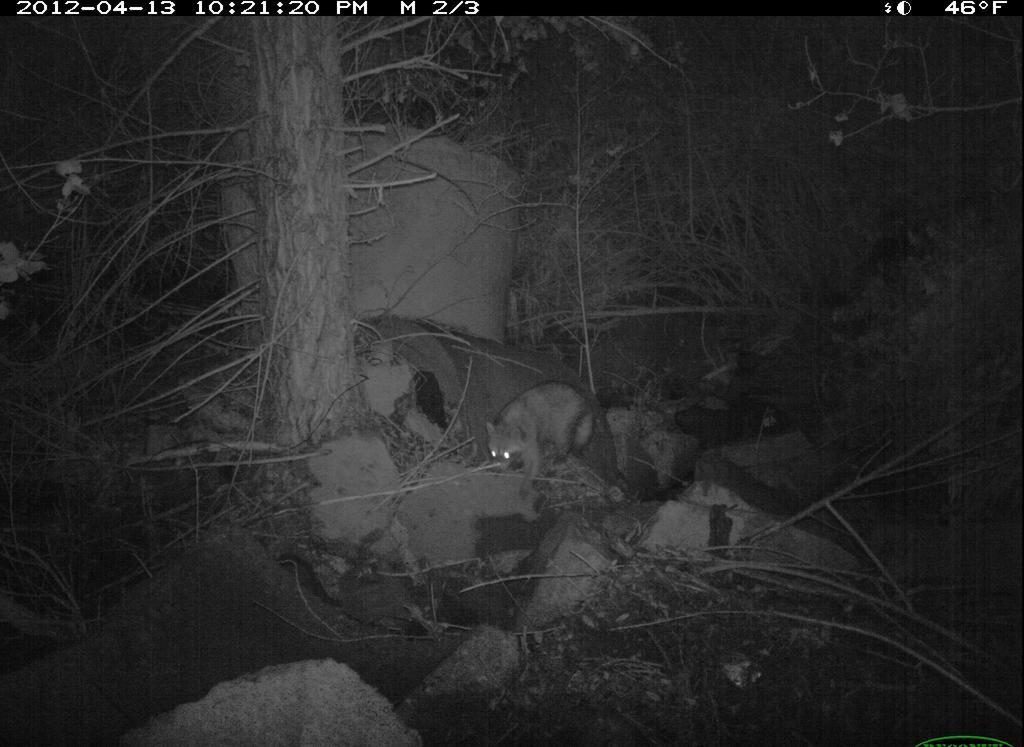raccoon: (483, 381, 606, 491)
